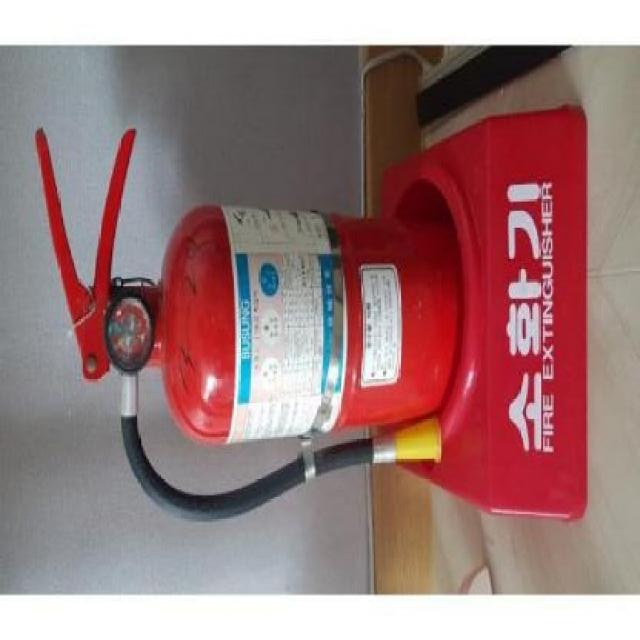fire extinguisher: (34, 124, 461, 524)
